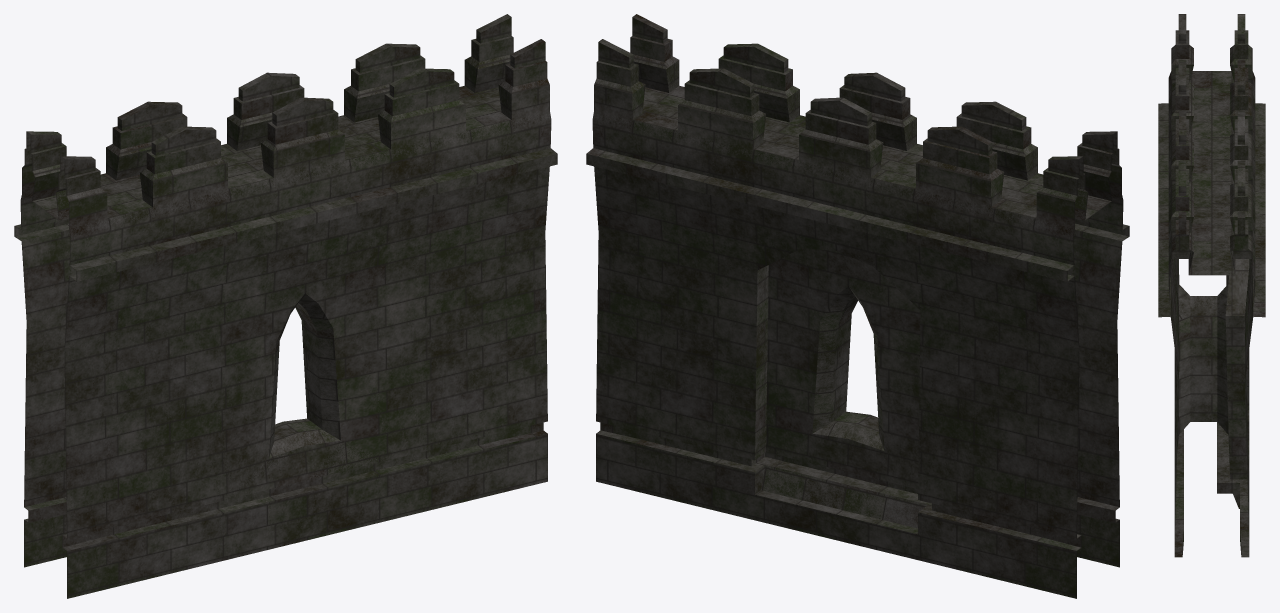
Rendered from CastleWallWindow.fbx.
3 views of the same model, side by side, from view 1: azimuth 30°, elevation 25°; view 2: azimuth 150°, elevation 25°; view 3: azimuth 270°, elevation 25° (orthographic). The views are drawn at different scales.
Parts seen in each view (by area): view 1: CastleWallWindow; view 2: CastleWallWindow; view 3: CastleWallWindow.
Part boxes in pixels (bbox=[...]): CastleWallWindow: bbox=[14, 14, 557, 598]; CastleWallWindow: bbox=[586, 14, 1129, 598]; CastleWallWindow: bbox=[1158, 14, 1265, 557].
Bounding box in the file's own units: 1264 × 1099 × 281.
